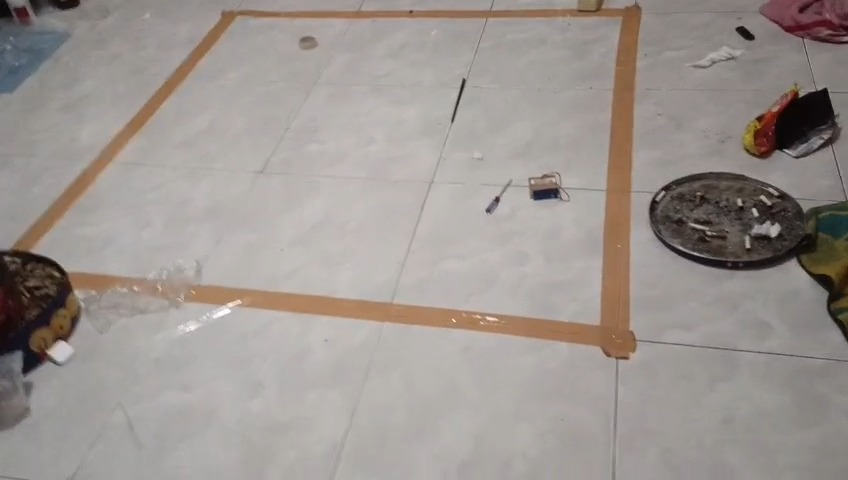floor marking: (190, 6, 639, 358), (15, 9, 597, 248), (70, 273, 139, 290)
